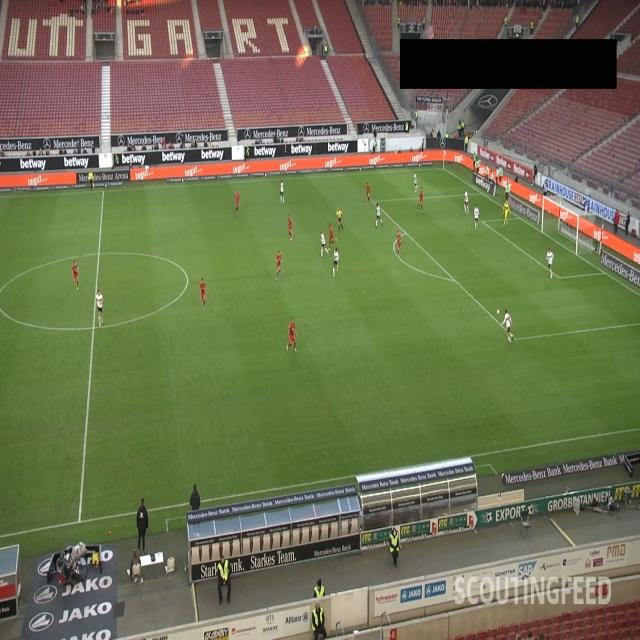ball: (496, 306, 501, 320)
f_player: (502, 308, 514, 343), (285, 318, 297, 352), (545, 248, 557, 280), (95, 289, 105, 327), (198, 276, 208, 310), (393, 232, 405, 260), (274, 252, 284, 280), (502, 198, 512, 226), (332, 248, 341, 278), (328, 221, 338, 248), (71, 261, 79, 289), (376, 202, 384, 230), (279, 177, 287, 204), (288, 217, 296, 242), (416, 188, 424, 212), (318, 232, 326, 256), (473, 205, 481, 228), (364, 184, 372, 206), (464, 190, 471, 214), (412, 171, 420, 190), (235, 191, 241, 213)
umpire: (336, 210, 344, 233), (88, 170, 96, 192)
